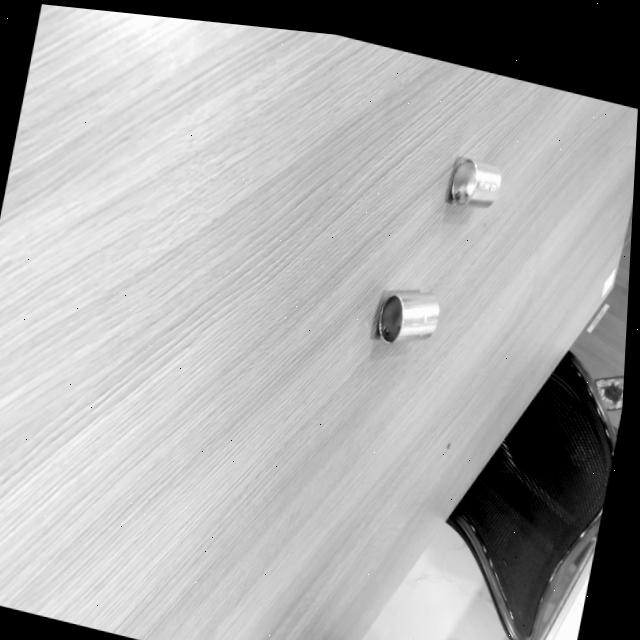Co_Lon: (377, 290, 439, 342)
Co_Nho: (446, 155, 505, 214)
